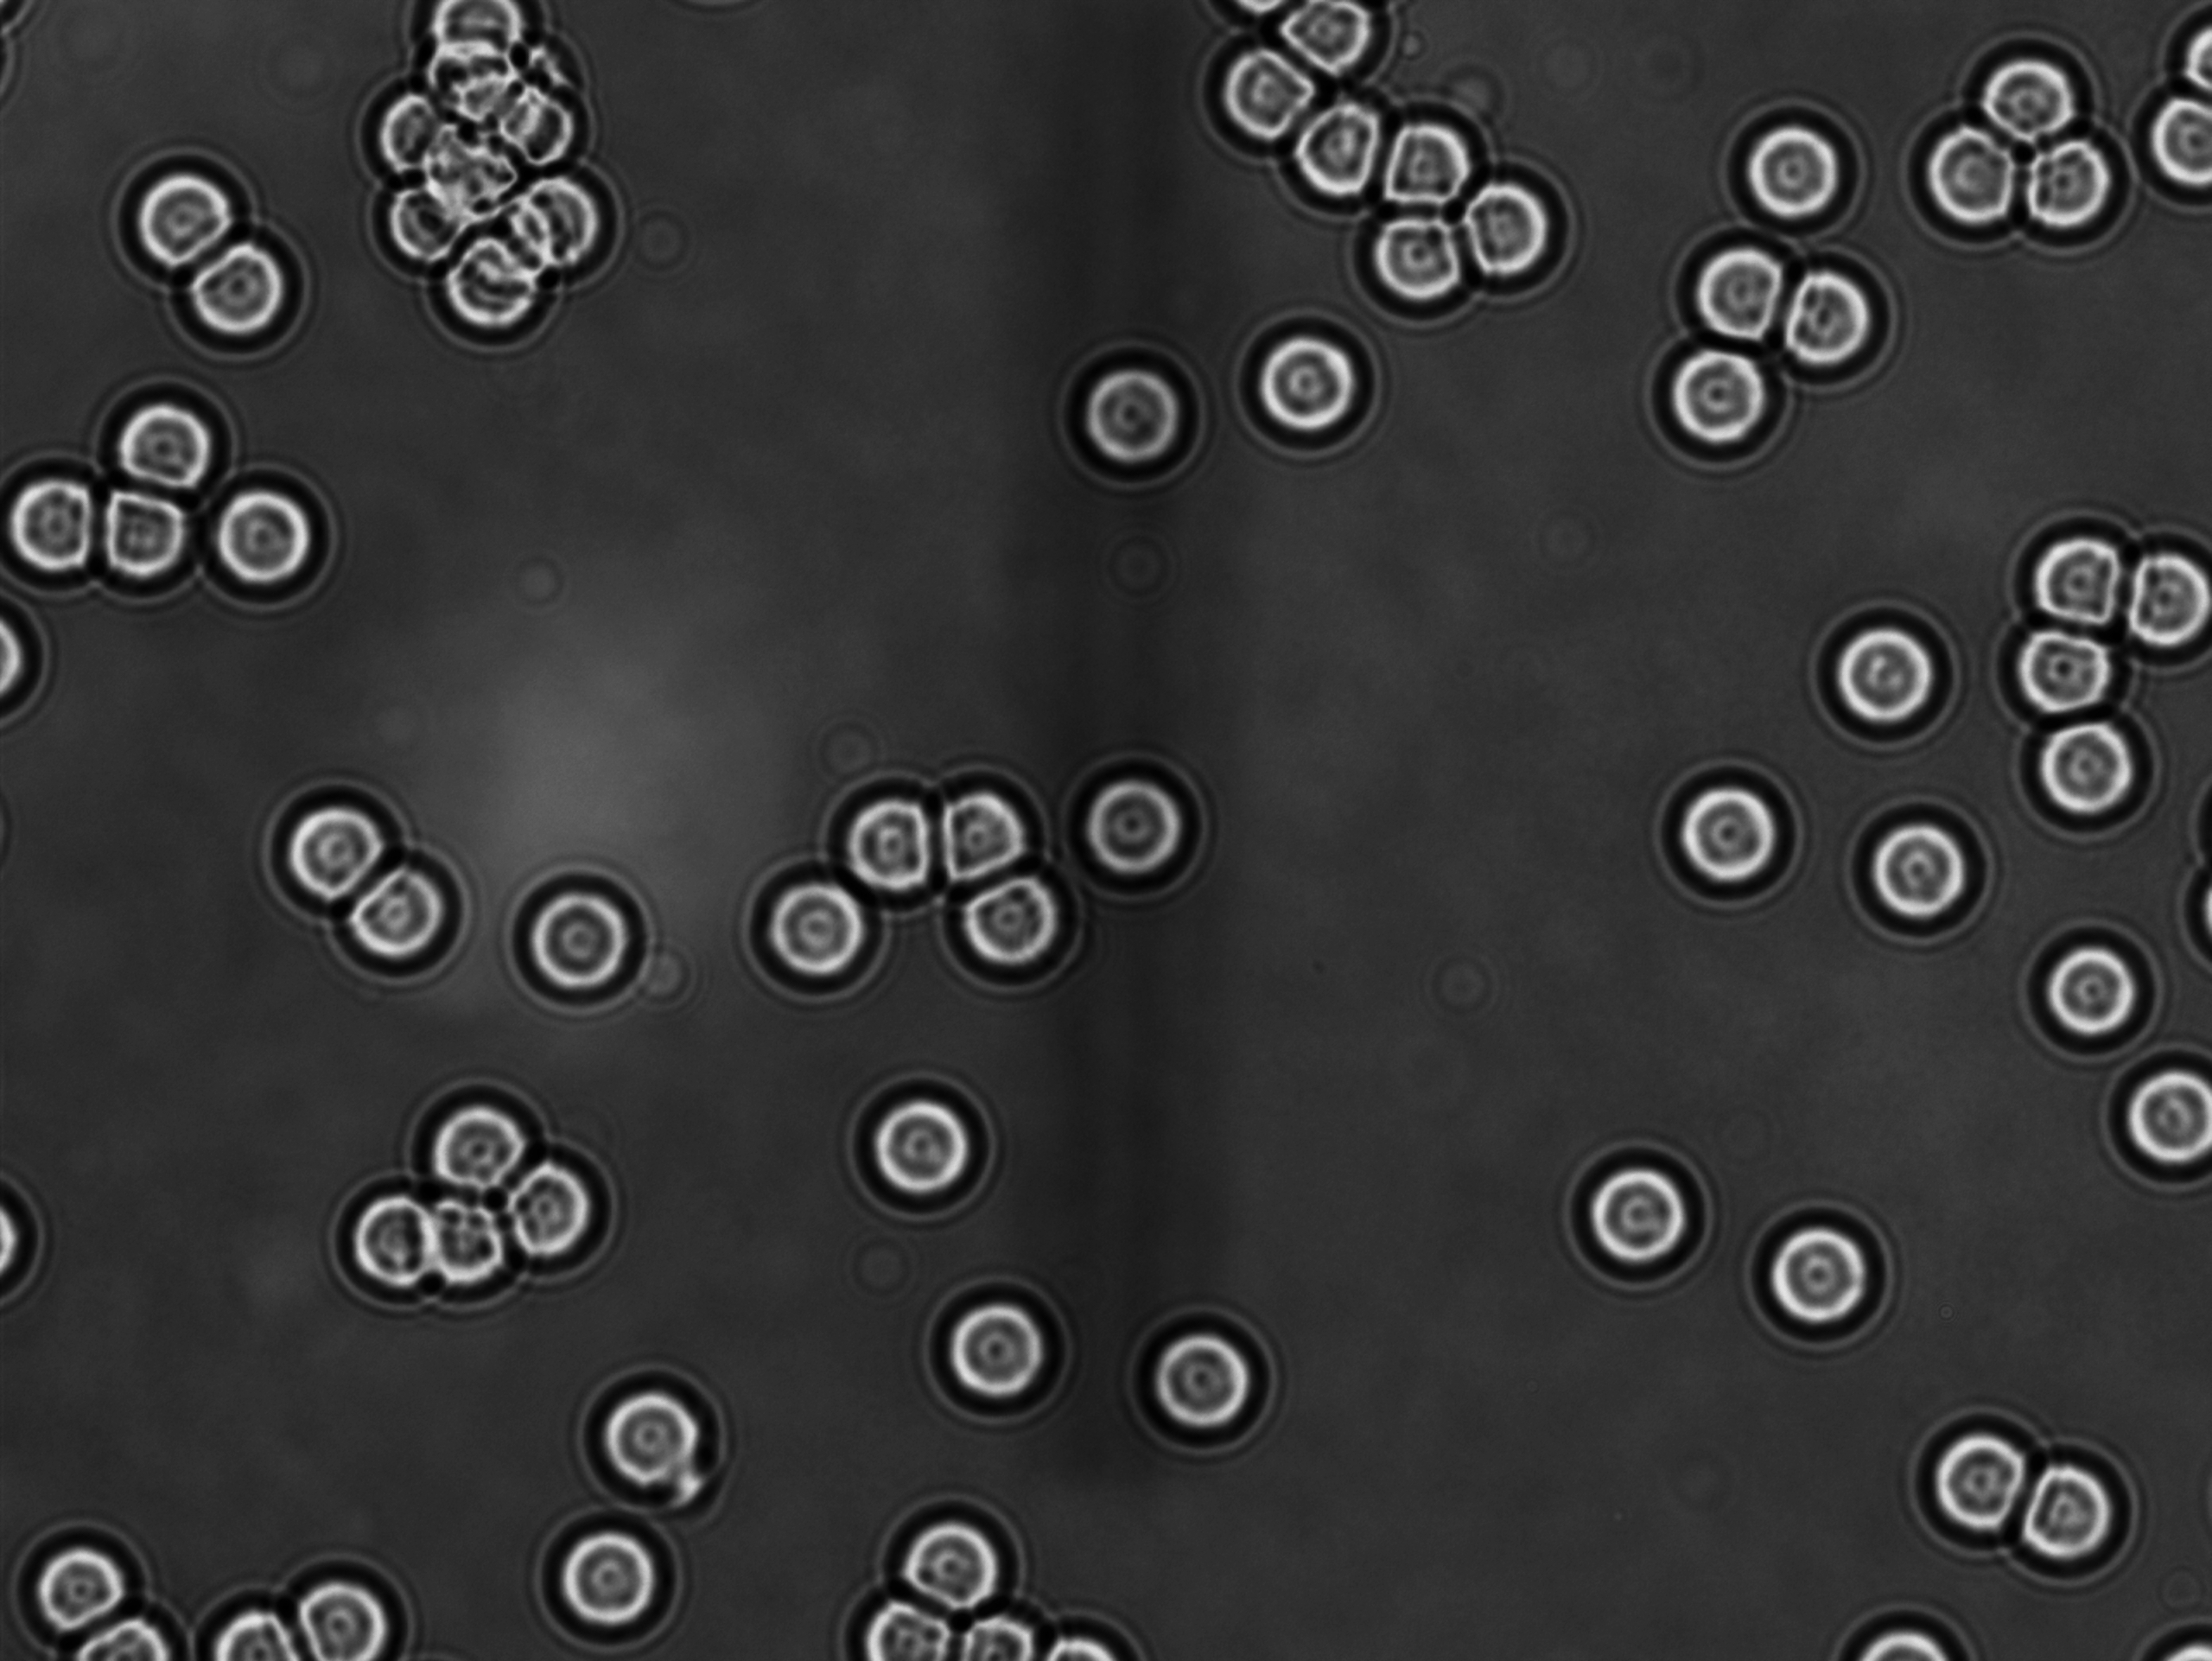depth:20: (1990, 1392, 2182, 1595), (1875, 1392, 2067, 1582), (485, 839, 673, 1029), (555, 1343, 754, 1520), (1551, 1124, 1744, 1303), (1884, 89, 2065, 277), (830, 1063, 1017, 1244), (1718, 1185, 1900, 1370), (248, 771, 434, 947), (1631, 323, 1813, 502), (1214, 293, 1399, 469), (169, 450, 352, 626), (1708, 82, 1888, 260), (1352, 70, 1530, 249), (799, 754, 972, 939), (1635, 743, 1811, 923), (1792, 584, 1968, 764), (311, 830, 499, 998), (1059, 314, 1226, 501), (99, 148, 288, 314), (1989, 490, 2163, 668), (1954, 0, 2128, 178), (928, 827, 1101, 1001), (1115, 1295, 1291, 1464), (1825, 787, 2001, 956), (1978, 595, 2160, 759), (319, 1155, 488, 1329), (1179, 5, 1350, 176), (1996, 96, 2161, 272), (1997, 909, 2172, 1075), (914, 1265, 1090, 1429), (1661, 218, 1833, 384), (1434, 148, 1600, 321), (729, 851, 900, 1017), (389, 1070, 569, 1227), (914, 738, 1080, 904), (2006, 694, 2175, 857), (1265, 68, 1425, 239), (1054, 745, 1219, 909), (1746, 236, 1907, 405), (874, 1471, 1043, 1631), (471, 140, 638, 300), (1347, 187, 1502, 358), (406, 209, 567, 370), (476, 1138, 642, 1293), (408, 1174, 563, 1340), (527, 1499, 684, 1661), (79, 356, 229, 525), (347, 108, 506, 265), (166, 204, 319, 366), (75, 454, 223, 612), (262, 1534, 436, 1661), (2095, 530, 2212, 686)
